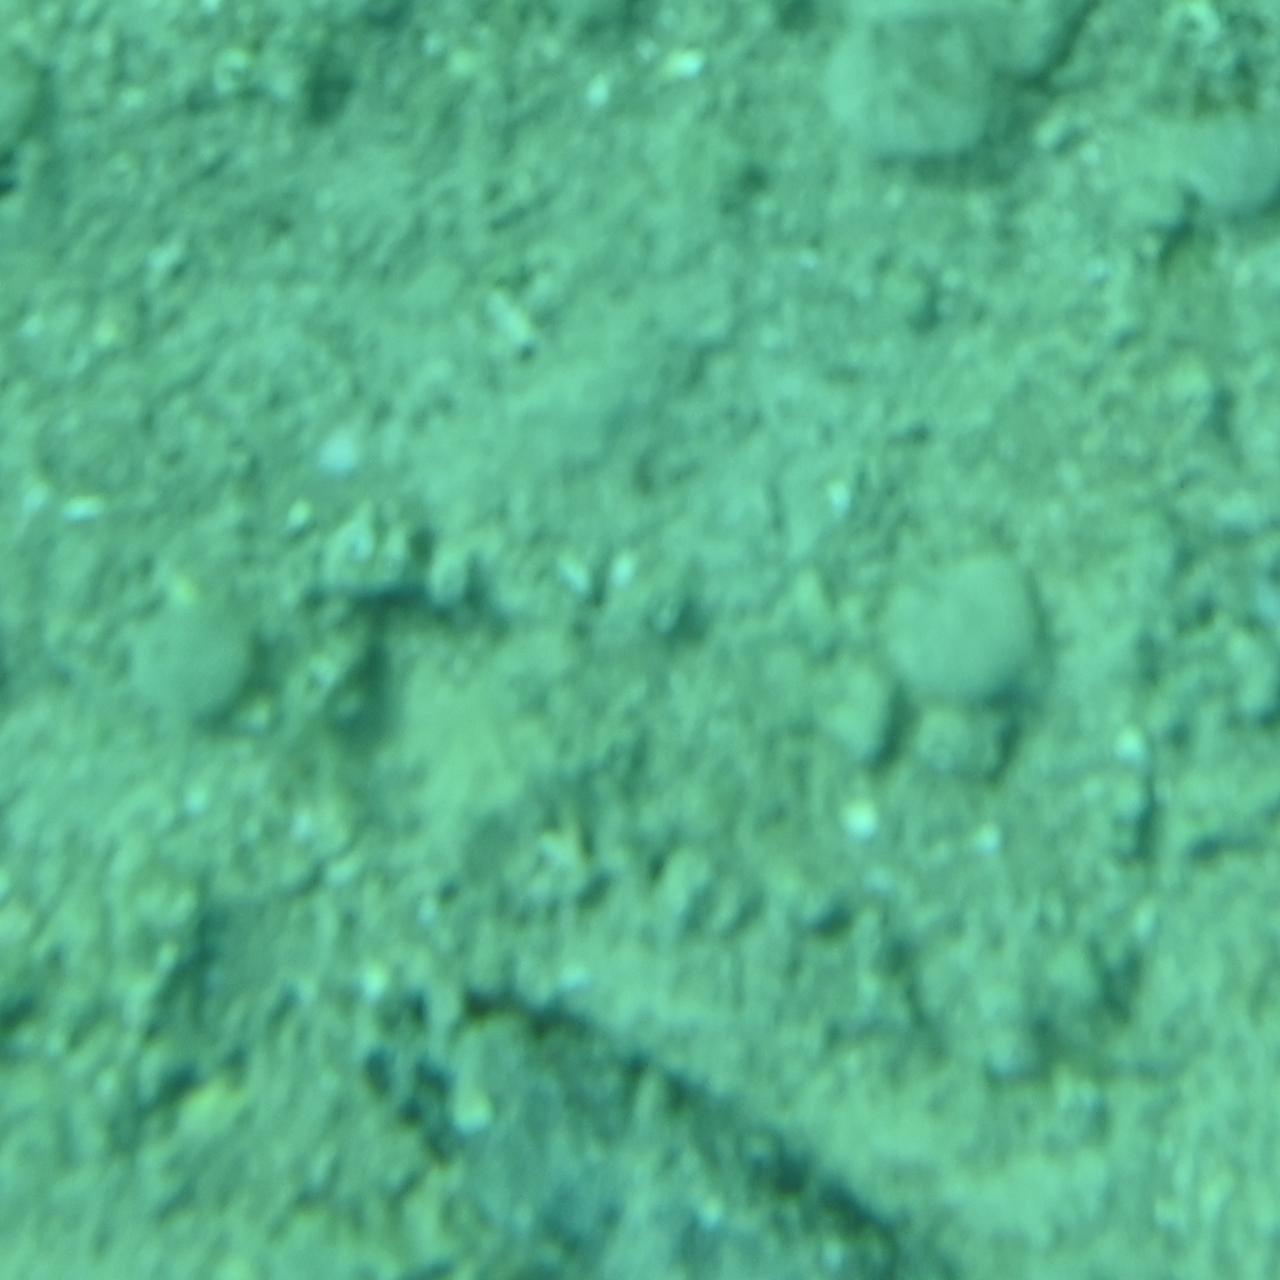Holothuria tubulosa: (345, 971, 935, 1279)
